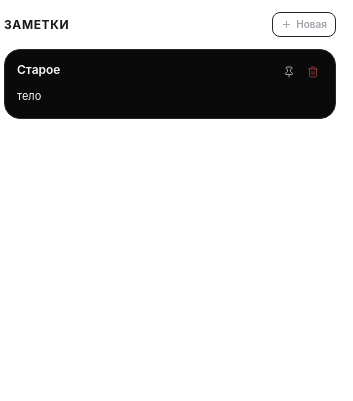
Test: NotesView › edits a note in place
This screenshot has width=353, height=401.
Click the button titled "Открыть для редактирования".
click(144, 70)  # box [17, 62, 271, 78]
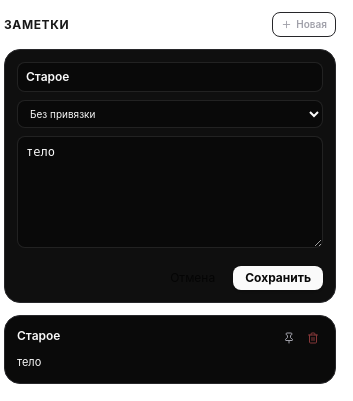
Check: the field named "Заголовок заметки" holds "Старое", box [17, 62, 323, 92]
